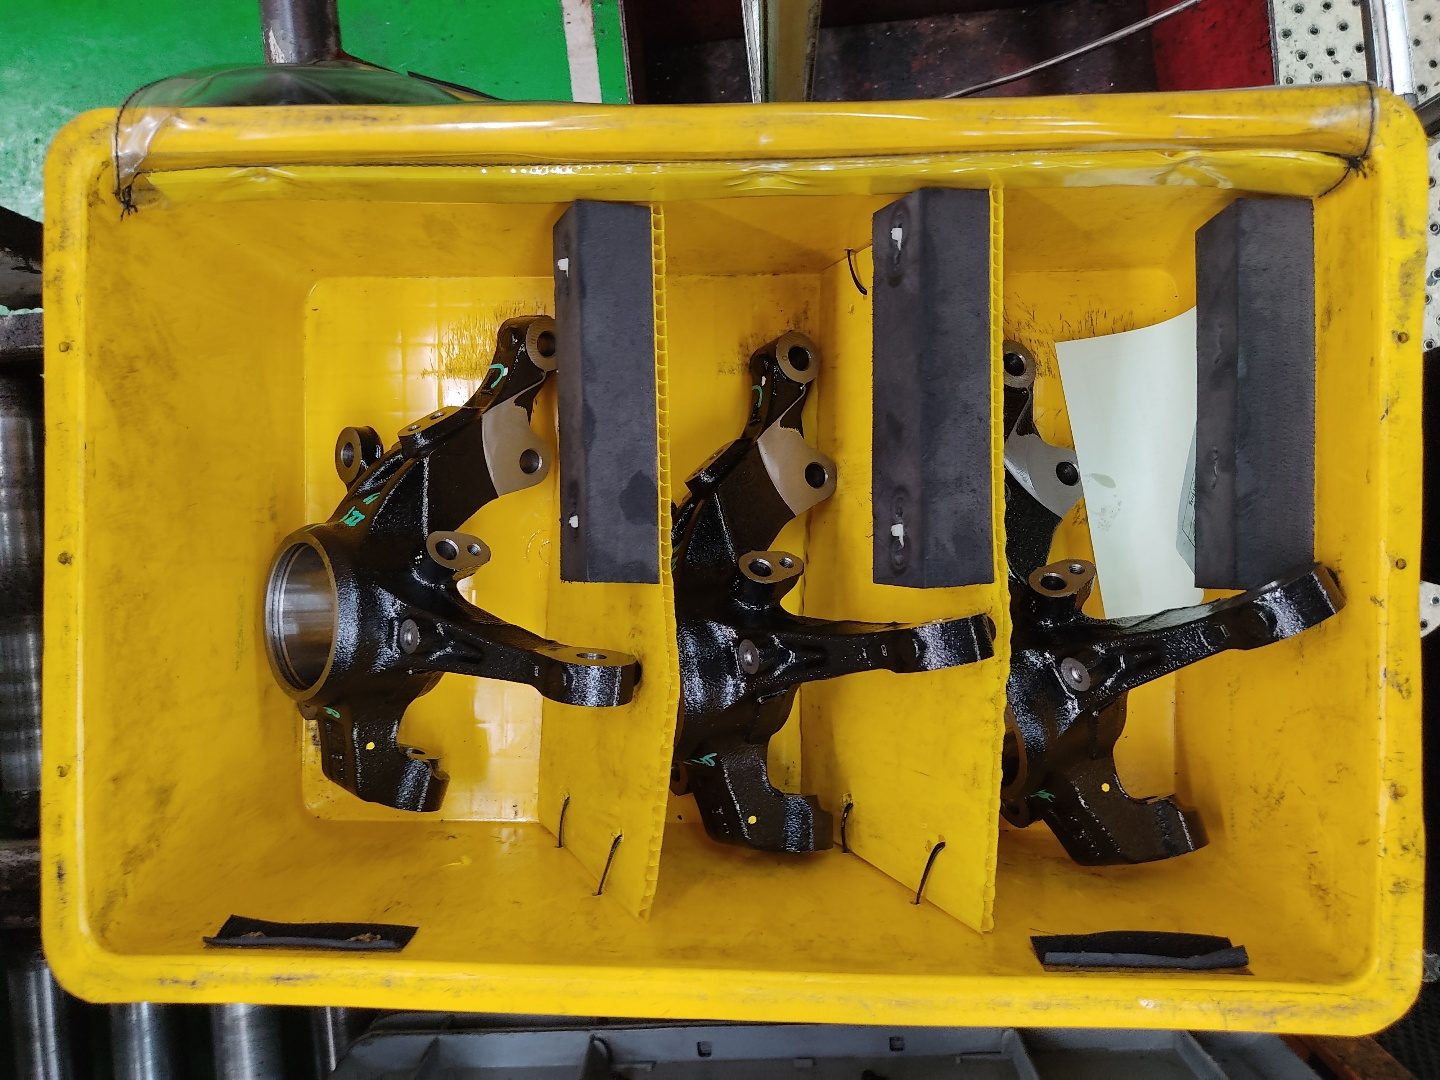abs-lh: (257, 305, 651, 822), (992, 323, 1358, 878), (658, 324, 1003, 860)
